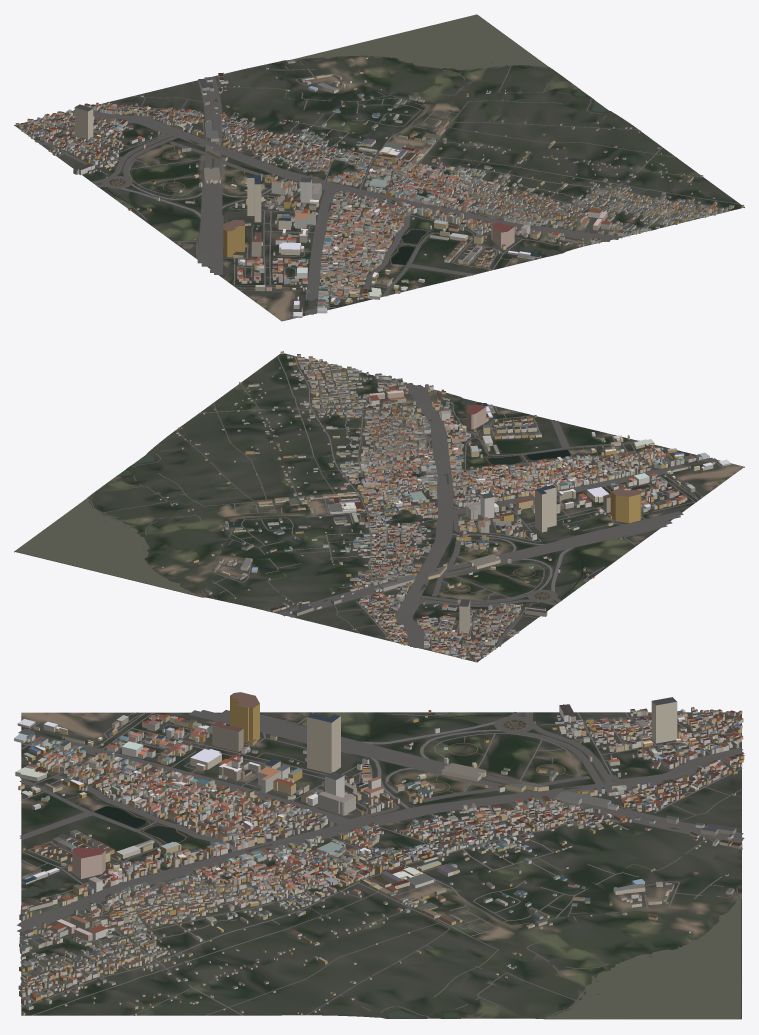
The picture shows the model from 3 angles, top to bottom: view 1: azimuth 30°, elevation 25°; view 2: azimuth 150°, elevation 25°; view 3: azimuth 270°, elevation 25°; orthographic projection. The views are drawn at different scales.
Visible parts, largest first — view 1: ground, buildings, roads, water; view 2: ground, buildings, roads, water; view 3: ground, buildings, roads, water.
Boxes of the visible parts, x1,y1,x2,y2 form: ground: (14, 15, 744, 321); buildings: (15, 57, 744, 317); roads: (19, 61, 740, 319); water: (107, 14, 654, 264); ground: (14, 353, 744, 662); buildings: (159, 351, 731, 661); roads: (87, 355, 738, 660); water: (15, 375, 583, 596); ground: (21, 712, 741, 1019); buildings: (14, 692, 744, 1015); roads: (17, 710, 744, 1018); water: (21, 714, 741, 1018).
Size of the model in its own units: 1416 by 120 by 1422.
